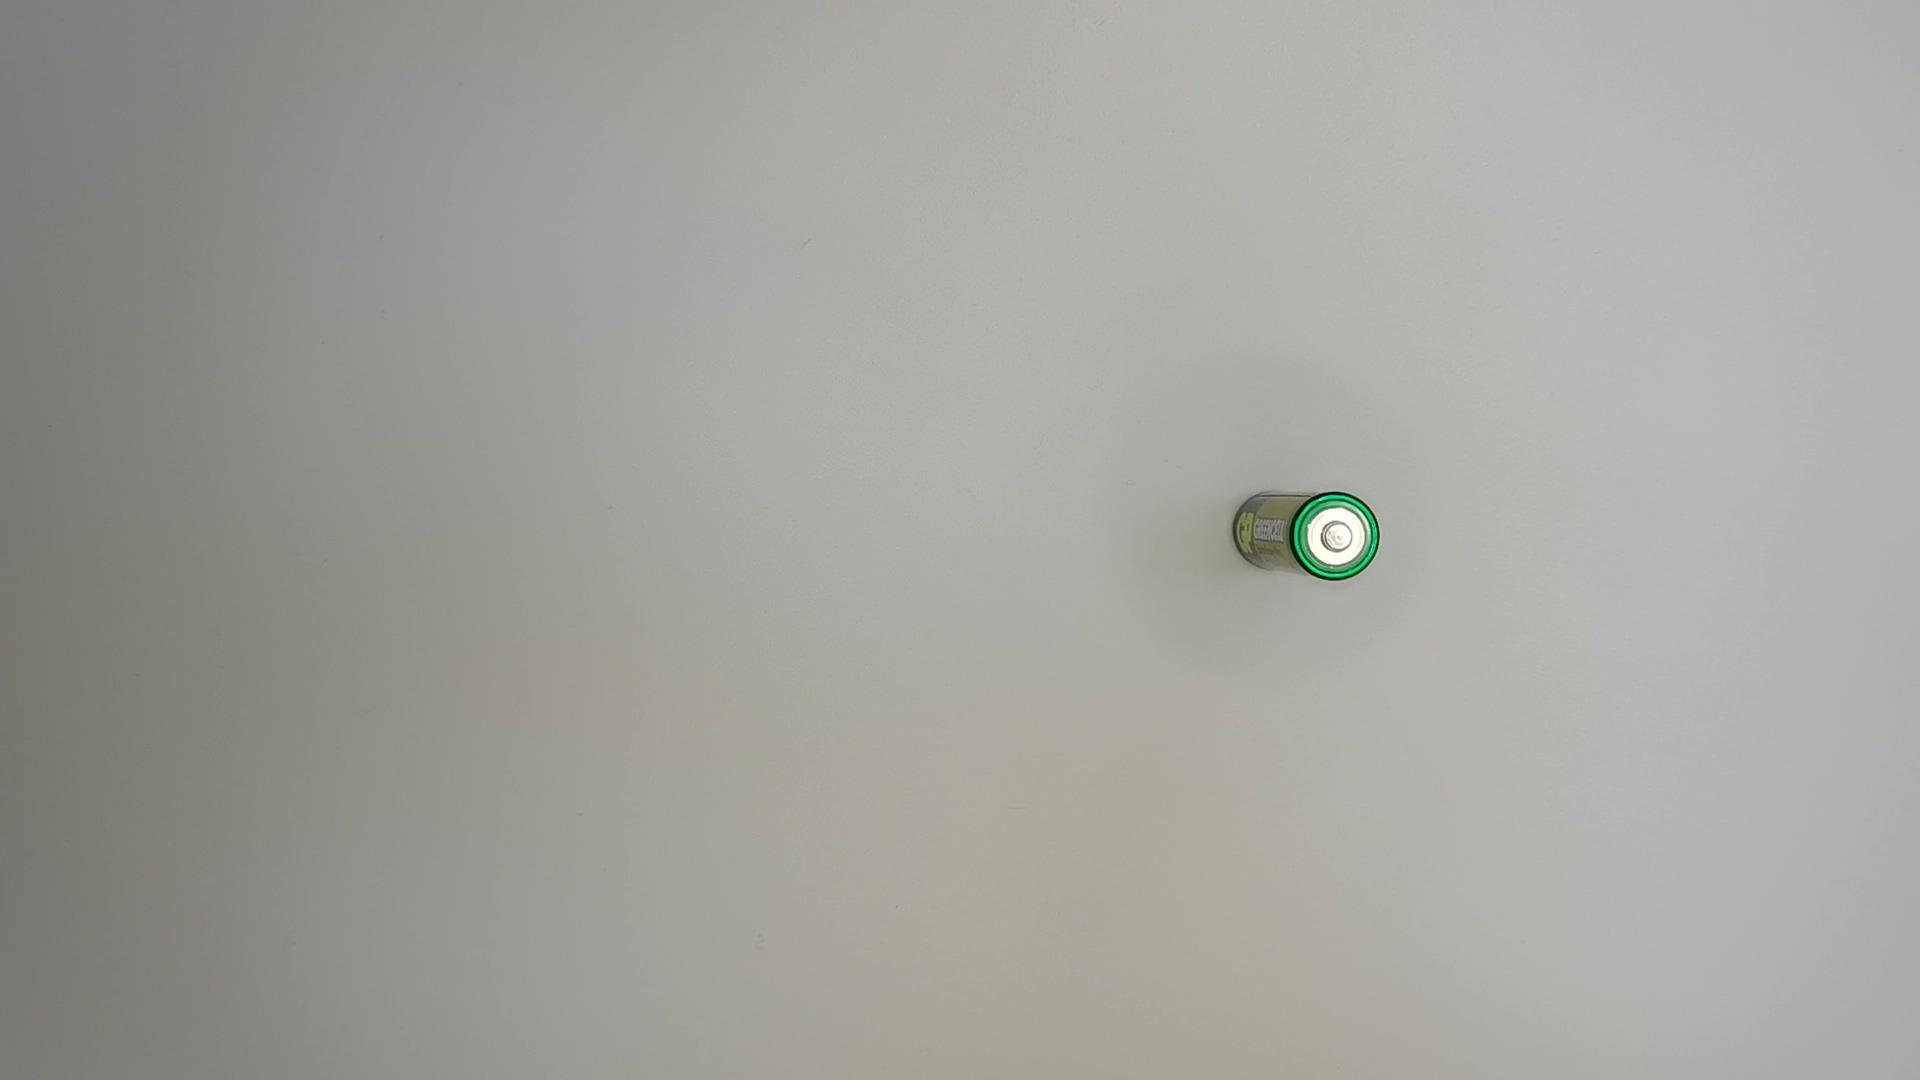battery: (1222, 487, 1382, 589)
